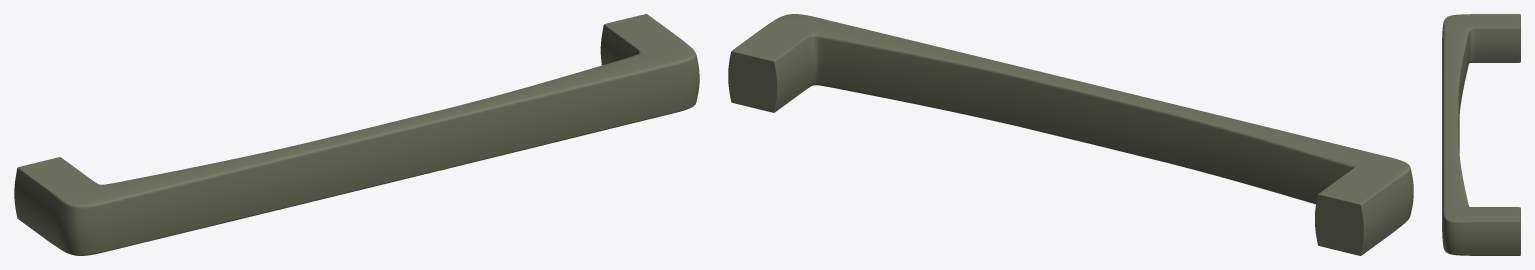
The picture shows the model from 3 angles, left to right: view 1: azimuth 30°, elevation 25°; view 2: azimuth 150°, elevation 25°; view 3: azimuth 270°, elevation 25°; orthographic projection. The views are drawn at different scales.
Visible parts, largest first — view 1: 498; view 2: 498; view 3: 498.
Boxes of the visible parts, x1,y1,x2,y2 form: 498: (14, 14, 699, 255); 498: (728, 14, 1413, 255); 498: (1442, 14, 1520, 255).
Bounding box in the file's own units: 0.1921 × 0.015 × 0.0305.
